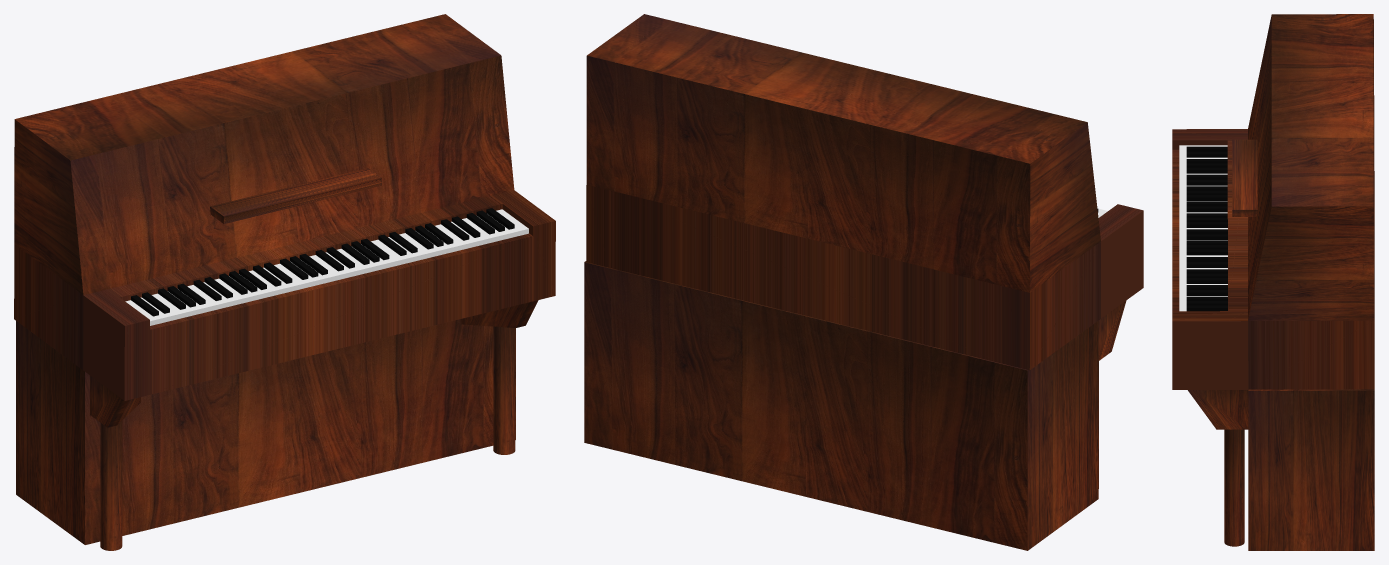
Rendered from piano.FBX.
3 renders of one model, left to right at view 1: azimuth 30°, elevation 25°; view 2: azimuth 150°, elevation 25°; view 3: azimuth 270°, elevation 25°, orthographic. The views are drawn at different scales.
Visible parts, largest first — view 1: Box002, Box001, Box003, Box034, Cone001, Cone002, Box035, Box036; view 2: Box002, Box001, Box035; view 3: Box002, Box001, Cone001, Box003, Box034, Box036, Box004, Box008, Box010, Box015, Box020, Box023 (+1 smaller).
Part boxes in pixels (left/top/right/bottom): Box002: left=14, top=14, right=555, bottom=400; Box001: left=16, top=319, right=515, bottom=544; Box003: left=125, top=209, right=528, bottom=325; Box034: left=210, top=168, right=381, bottom=223; Cone001: left=493, top=326, right=515, bottom=454; Cone002: left=100, top=421, right=122, bottom=550; Box035: left=90, top=375, right=140, bottom=427; Box036: left=461, top=300, right=538, bottom=327; Box002: left=586, top=14, right=1143, bottom=370; Box001: left=584, top=261, right=1098, bottom=550; Box035: left=1098, top=300, right=1126, bottom=360; Box002: left=1172, top=14, right=1374, bottom=389; Box001: left=1248, top=389, right=1374, bottom=550; Cone001: left=1224, top=429, right=1244, bottom=546; Box003: left=1179, top=145, right=1227, bottom=311; Box034: left=1232, top=139, right=1257, bottom=216; Box036: left=1188, top=390, right=1248, bottom=429; Box004: left=1186, top=151, right=1227, bottom=157; Box008: left=1186, top=167, right=1227, bottom=173; Box010: left=1186, top=179, right=1227, bottom=185; Box015: left=1186, top=206, right=1227, bottom=212; Box020: left=1186, top=234, right=1227, bottom=240; Box023: left=1186, top=249, right=1227, bottom=255.
Size of the model in its own units: 90.41 by 75.1 by 40.1.
